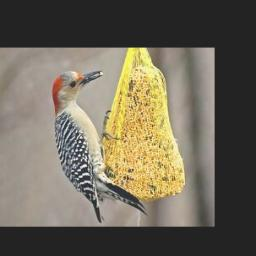Woodpecker: (39, 64, 152, 221)
